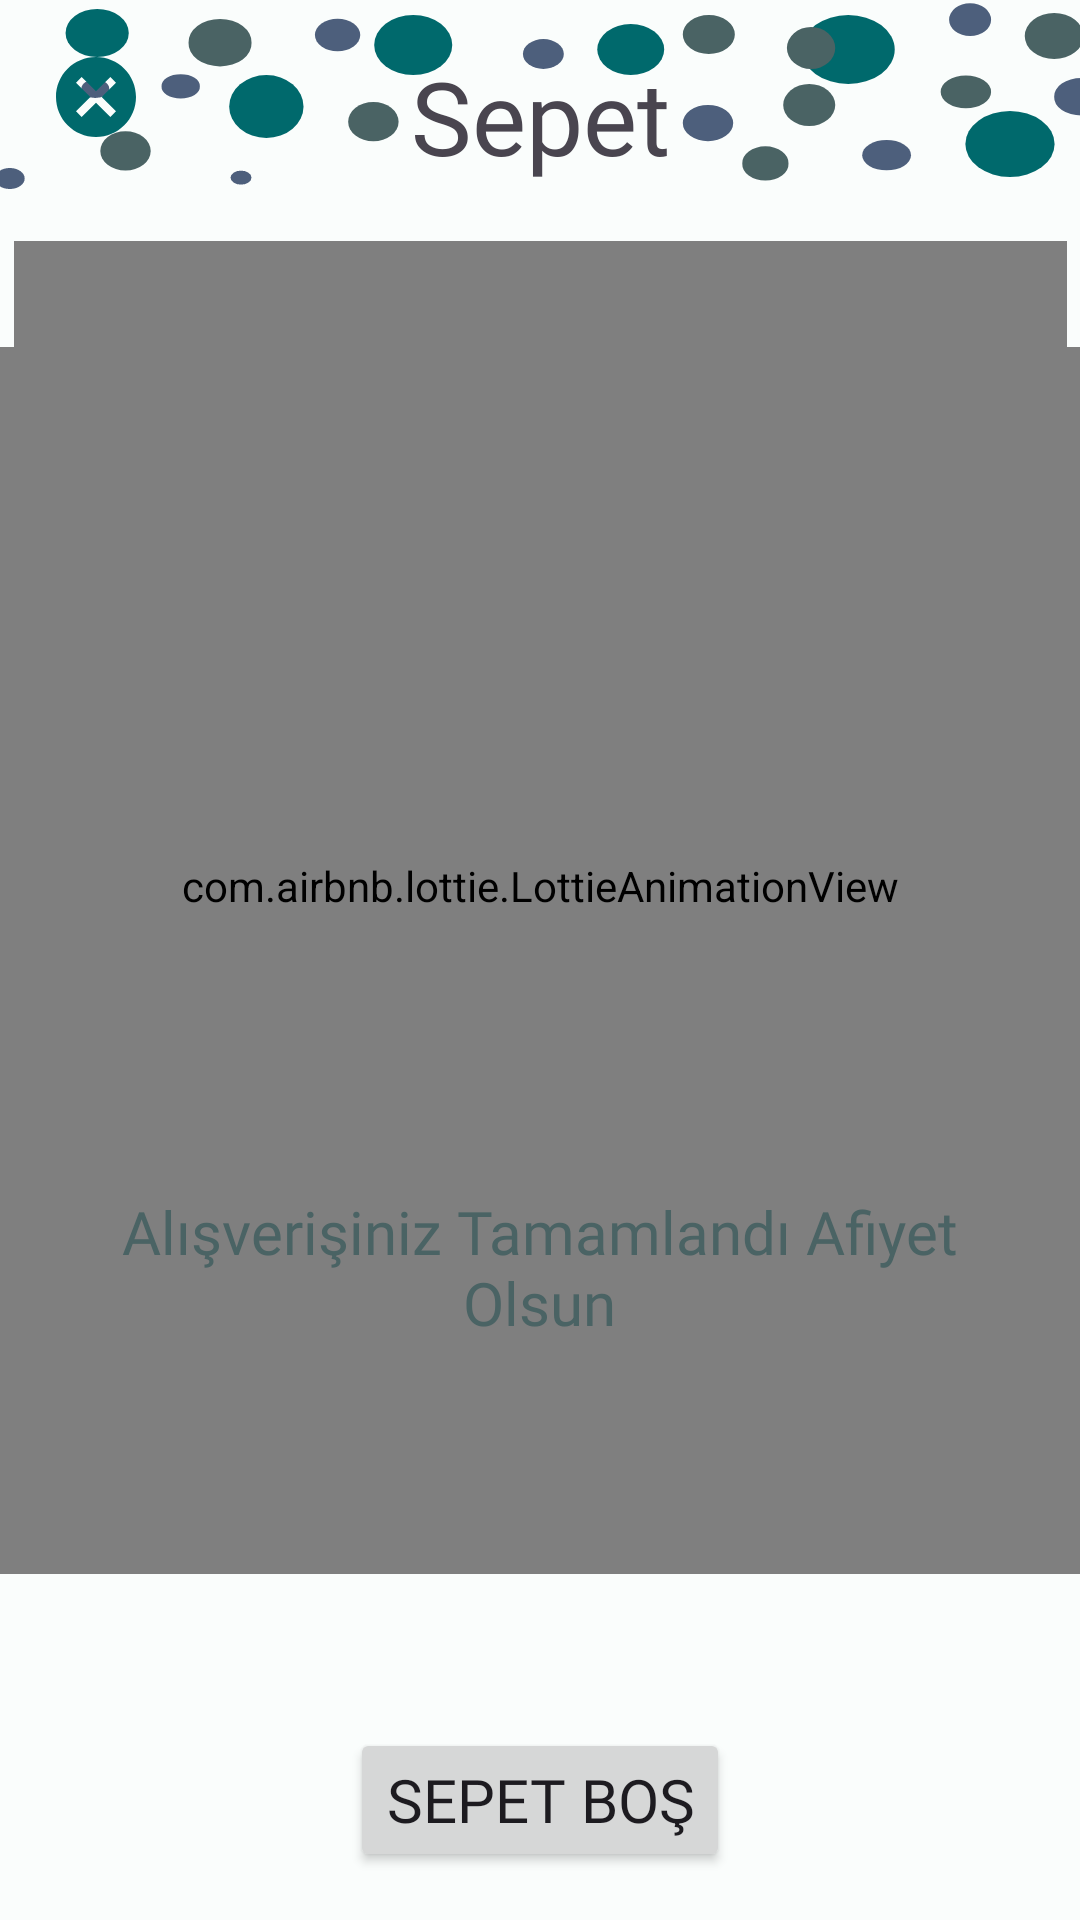

Icon bounding boxes for this 1080px×1920px phone screenshot, format BBox(x1, y1, x2, y2):
cancel: BBox(56, 49, 144, 145)
